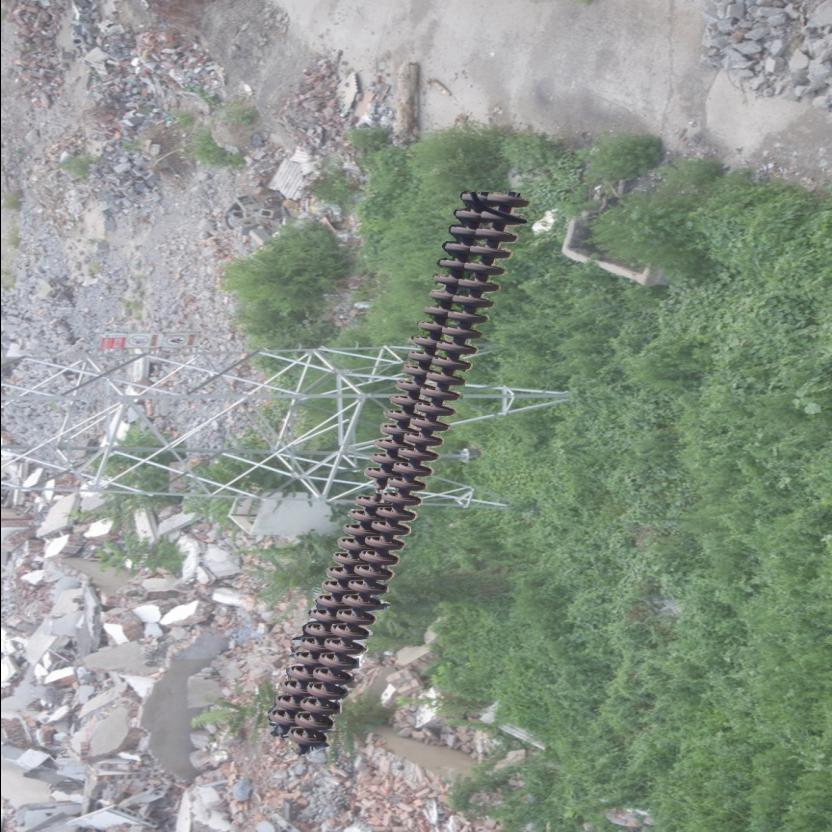defect: (350, 466, 394, 512)
